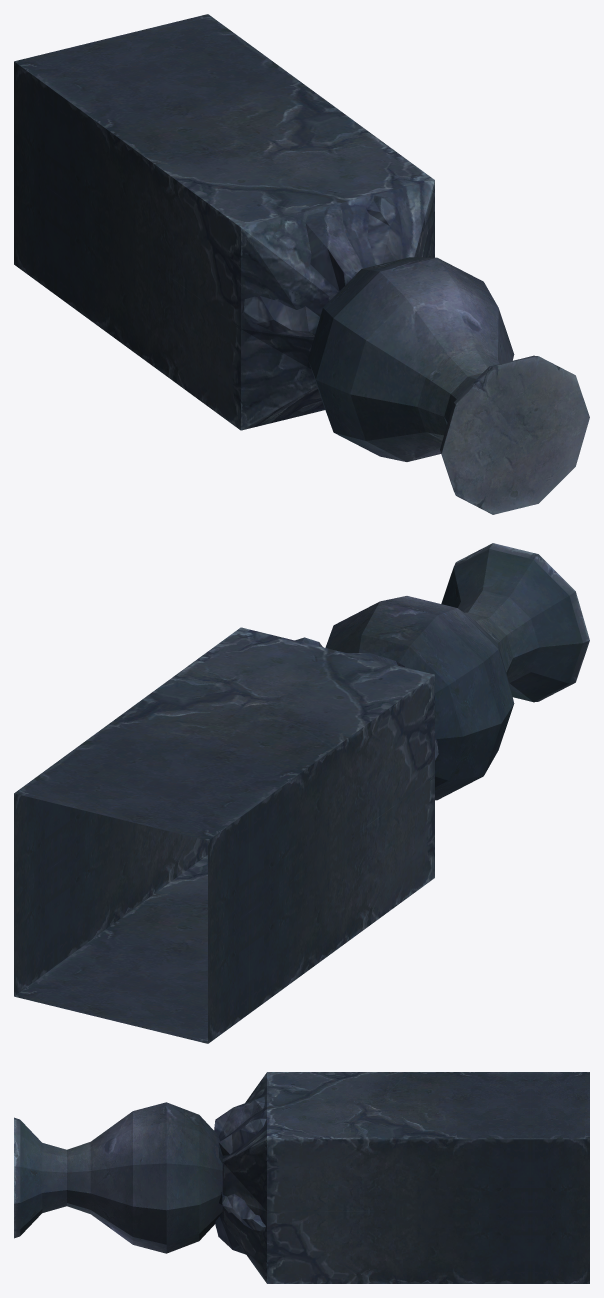
File: shenjie_fuben_09_zhuzi02.obj
The picture shows the model from 3 angles, top to bottom: view 1: azimuth 30°, elevation 25°; view 2: azimuth 150°, elevation 25°; view 3: azimuth 270°, elevation 25°; orthographic projection. The views are drawn at different scales.
Visible parts, largest first — view 1: shenjie_fuben_09_zhuzi02; view 2: shenjie_fuben_09_zhuzi02; view 3: shenjie_fuben_09_zhuzi02.
Boxes of the visible parts, x1,y1,x2,y2 form: shenjie_fuben_09_zhuzi02: (14,14,589,514); shenjie_fuben_09_zhuzi02: (14,543,589,1043); shenjie_fuben_09_zhuzi02: (14,1072,589,1283).
Size of the model in its own units: 119 by 121 by 430.
Materials: 1 (1 with a texture image).
